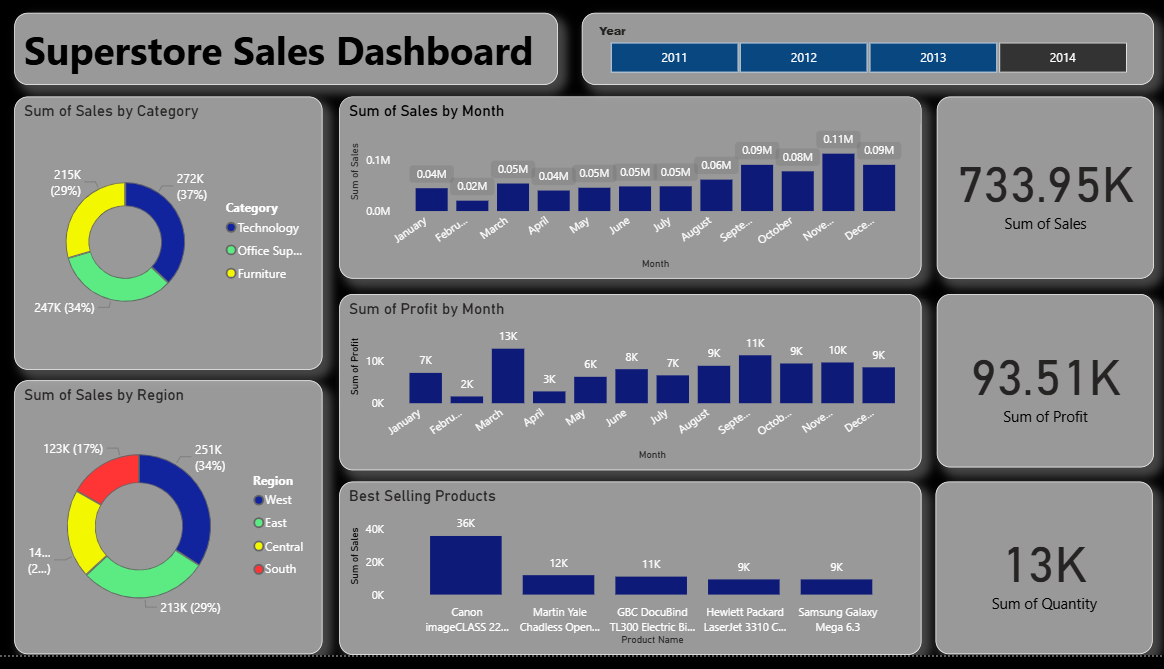

Layout of this report page (visuals, bound fields, positions):
{"tool":"powerbi","page":{"name":"Page 1","canvas":[1280,720],"ordinal":0},"visuals":[{"type":"textbox","box":[17.4,15.1,596.5,79.1],"z":0},{"type":"columnChart","fields":{"Y":["Sum(Orders.Profit)"],"Category":["Orders.Order Date.Variation.Date Hierarchy.Month"]},"box":[374.6,323.8,639.5,193.5],"z":1000},{"type":"donutChart","fields":{"Y":["Sum(Orders.Sales)"],"Category":["Orders.Region"]},"box":[17.4,418.6,338.4,301.2],"z":2000},{"type":"donutChart","fields":{"Y":["Sum(Orders.Sales)"],"Category":["Orders.Category"]},"box":[17.4,107,338.4,300],"z":3000},{"type":"columnChart","fields":{"Y":["Sum(Orders.Sales)"],"Category":["Orders.Order Date.Variation.Date Hierarchy.Month"]},"box":[374.6,107,639.5,200.3],"z":4000},{"type":"columnChart","title":"Best Selling Products","fields":{"Y":["Sum(Orders.Sales)"],"Category":["Orders.Product Name"]},"box":[374.6,529.7,639.5,190.7],"z":5000},{"type":"card","fields":{"Values":["Sum(Orders.Sales)"]},"box":[1030.2,107,238.4,200],"z":6000},{"type":"card","fields":{"Values":["Sum(Orders.Profit)"]},"box":[1030.2,323.3,238.4,190.7],"z":7000},{"type":"card","fields":{"Values":["Sum(Orders.Quantity)"]},"box":[1029.1,530.2,238.4,189.5],"z":8000},{"type":"slicer","fields":{"Values":["Orders.Order Date.Variation.Date Hierarchy.Year"]},"box":[640.7,15.1,627.9,79.1],"z":9000}]}

Visuals, with their boxes in screenshot pixels (x1, y1, x2, y2), scaled from the page's 1280x720 canvas onto the 1164x669 screenshot:
textbox: box=[16, 14, 558, 88]
columnChart - Sum(Orders.Profit) x Orders.Order Date.Variation.Date Hierarchy.Month: box=[341, 301, 922, 481]
donutChart - Sum(Orders.Sales) x Orders.Region: box=[16, 389, 324, 668]
donutChart - Sum(Orders.Sales) x Orders.Category: box=[16, 99, 324, 378]
columnChart - Sum(Orders.Sales) x Orders.Order Date.Variation.Date Hierarchy.Month: box=[341, 99, 922, 286]
"Best Selling Products" columnChart: box=[341, 492, 922, 668]
card - Sum(Orders.Sales): box=[937, 99, 1154, 285]
card - Sum(Orders.Profit): box=[937, 300, 1154, 478]
card - Sum(Orders.Quantity): box=[936, 493, 1153, 668]
slicer - Orders.Order Date.Variation.Date Hierarchy.Year: box=[583, 14, 1154, 88]
